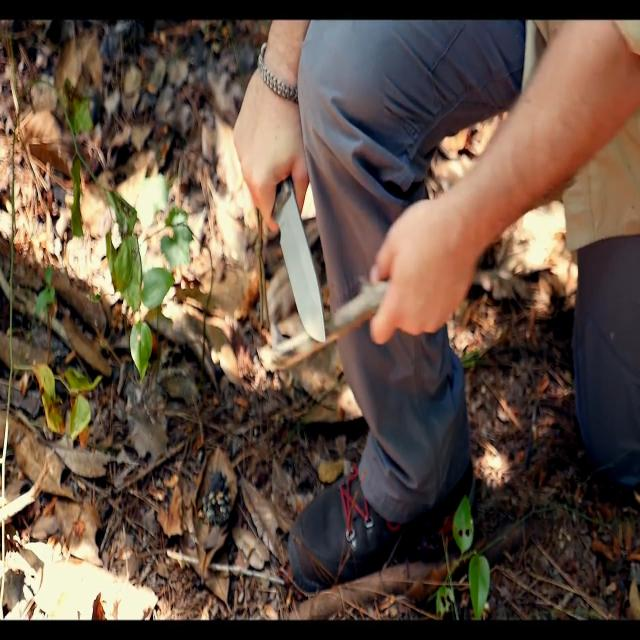knife: (276, 178, 330, 348)
